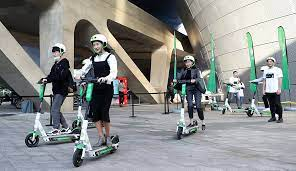kick_neck: (34, 86, 45, 127)
kick_wheel: (72, 147, 83, 166), (26, 131, 39, 146), (176, 124, 184, 138)
